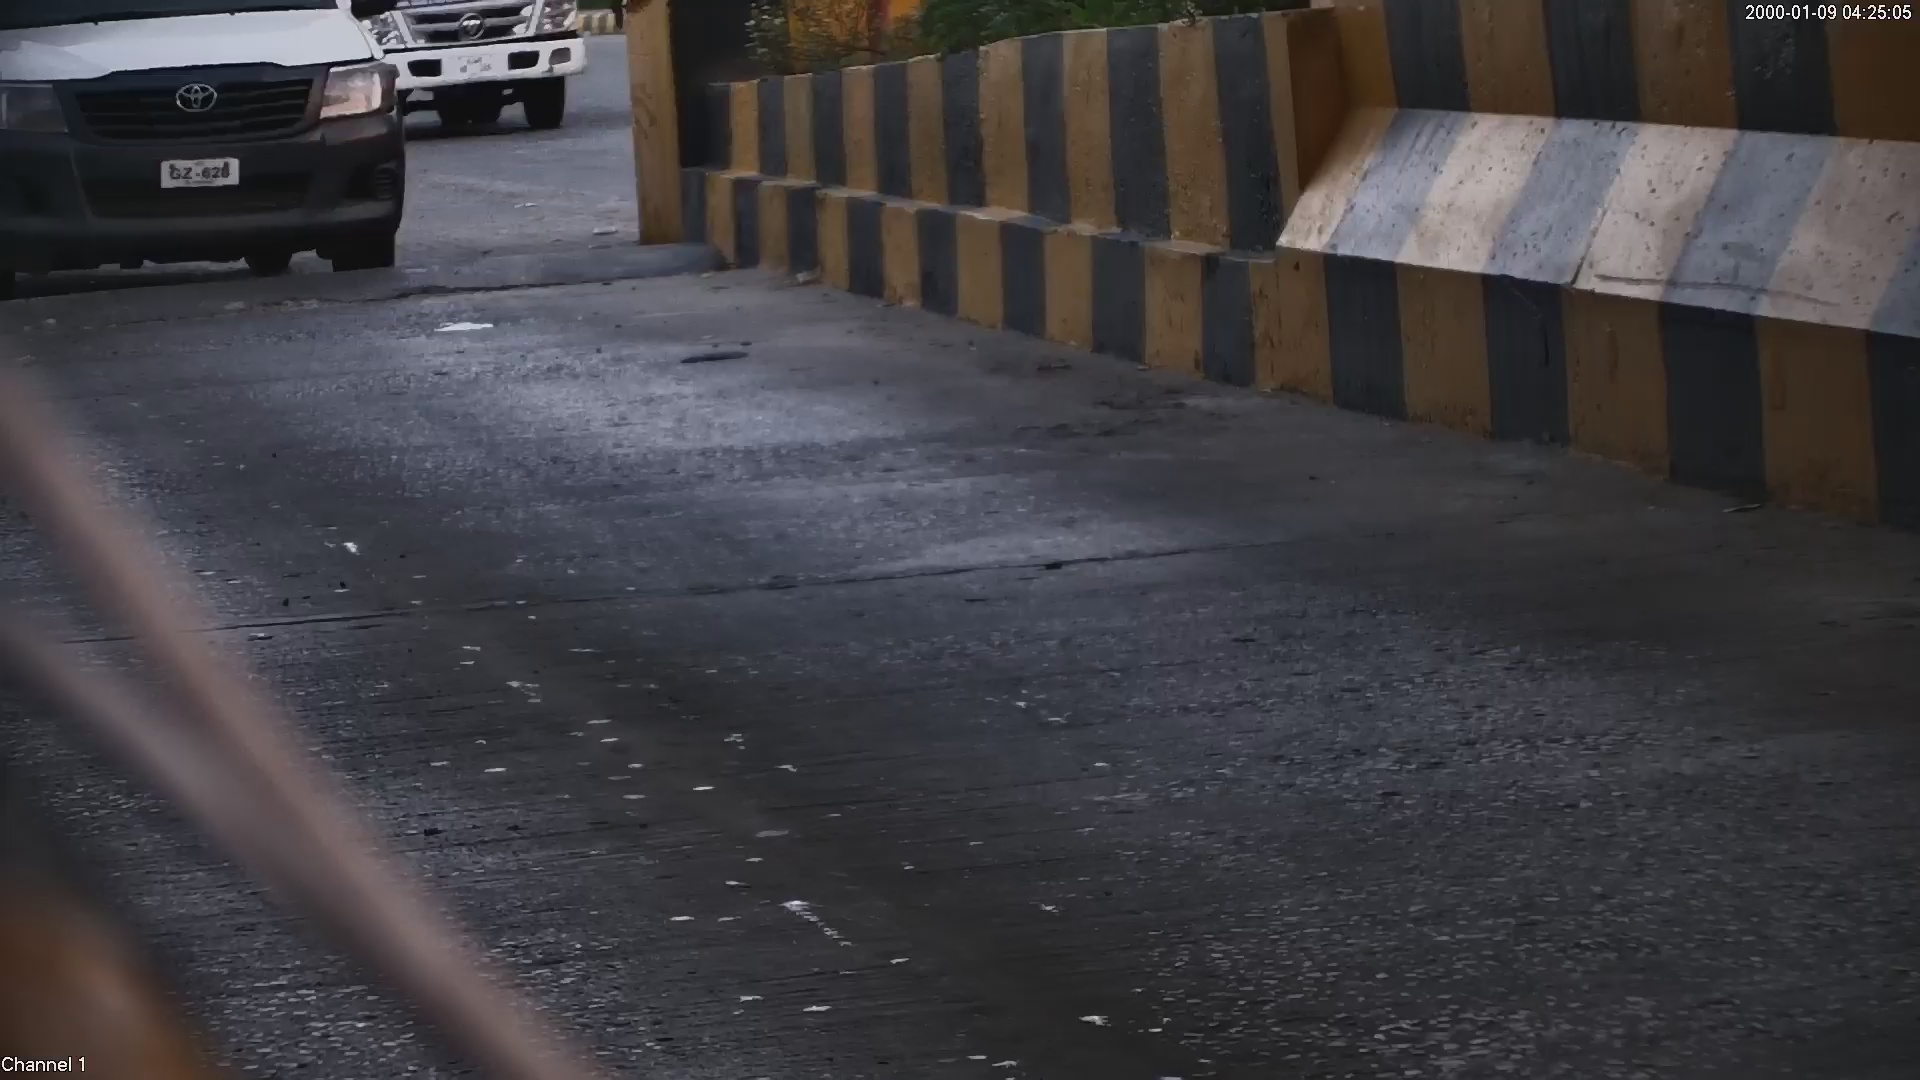Number_Plate: (147, 149, 250, 192)
